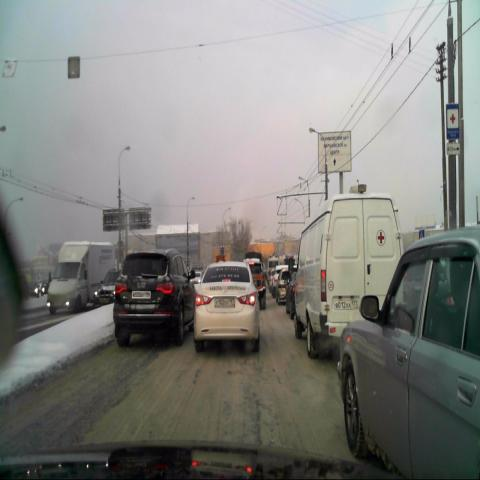7_1: (447, 104, 460, 139)
